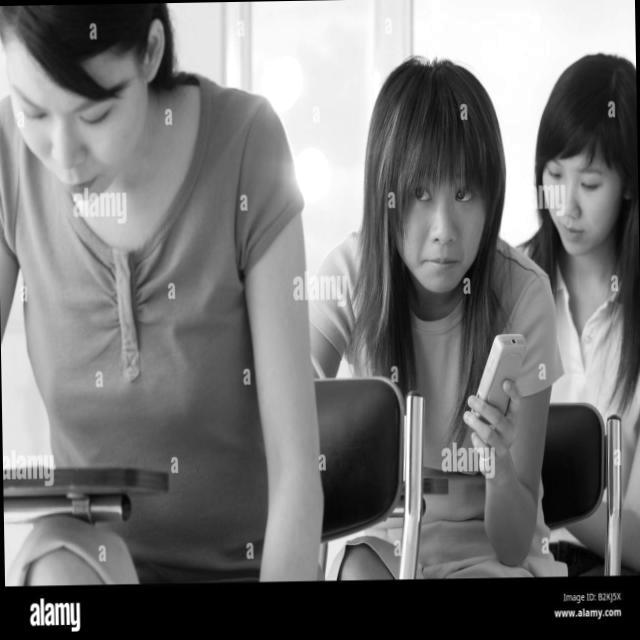phone: (468, 332, 528, 425)
